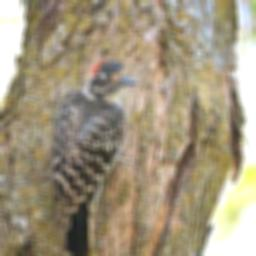Woodpecker: (57, 57, 136, 256)
